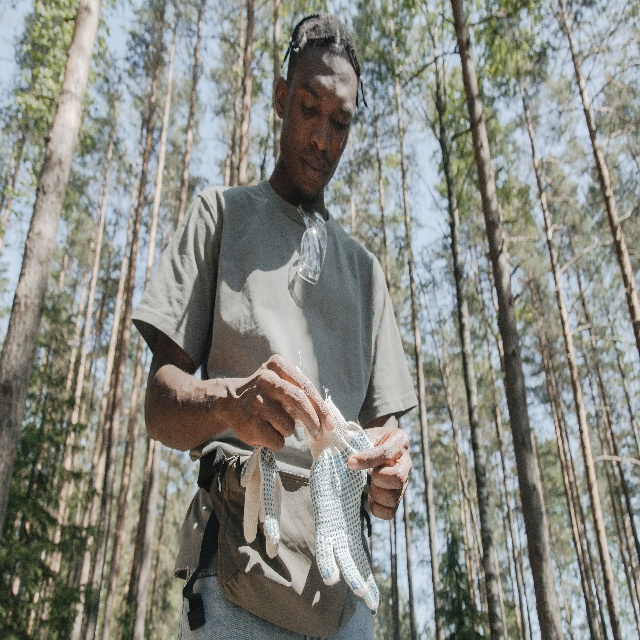Gafas: (297, 202, 329, 281)
Guantes: (302, 401, 380, 600), (236, 450, 284, 546)
Sin_guantes: (231, 359, 331, 451), (349, 428, 418, 518)
